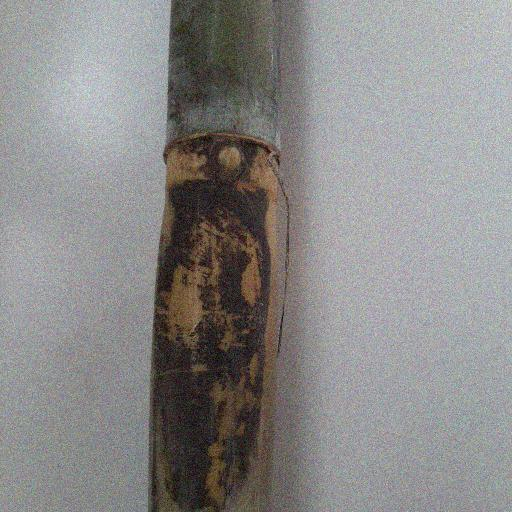Bud: (211, 141, 245, 181)
